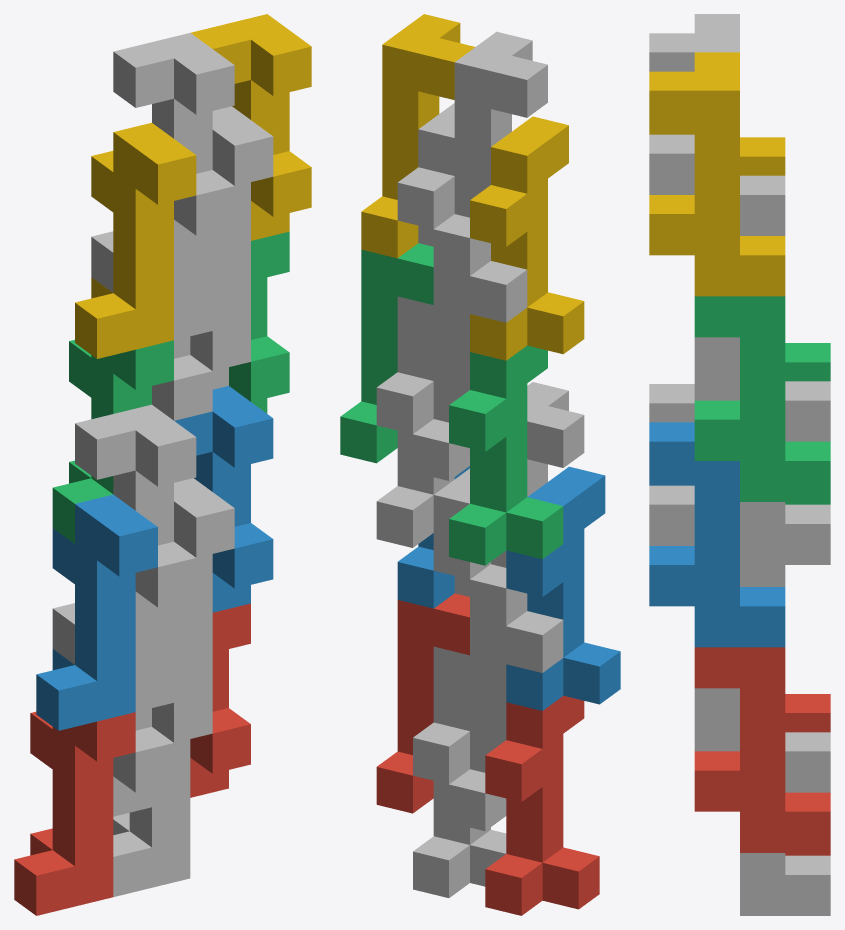
Rendered from tiling.obj.
The picture shows the model from 3 angles, left to right: view 1: azimuth 30°, elevation 25°; view 2: azimuth 150°, elevation 25°; view 3: azimuth 270°, elevation 25°; orthographic projection. The views are drawn at different scales.
Visible parts, largest first — view 1: copy_1_domain_4, copy_1_domain_2, copy_1_domain_1, copy_2_domain_2, copy_2_domain_4, copy_2_domain_8, copy_2_domain_6, copy_1_domain_8, copy_1_domain_6, copy_1_domain_5, copy_1_domain_3, copy_2_domain_1 (+4 smaller); view 2: copy_1_domain_1, copy_1_domain_3, copy_1_domain_4, copy_1_domain_2, copy_2_domain_4, copy_2_domain_8, copy_2_domain_3, copy_2_domain_1, copy_1_domain_7, copy_1_domain_5, copy_2_domain_5, copy_2_domain_7 (+4 smaller); view 3: copy_2_domain_8, copy_2_domain_5, copy_2_domain_7, copy_2_domain_6, copy_1_domain_7, copy_1_domain_5, copy_1_domain_8, copy_1_domain_6, copy_2_domain_4, copy_1_domain_1, copy_1_domain_3, copy_1_domain_4 (+1 smaller).
Boxes of the visible parts, x1,y1,x2,y2 form: copy_1_domain_4: (75, 122, 196, 358); copy_1_domain_2: (36, 494, 157, 730); copy_1_domain_1: (14, 711, 135, 915); copy_2_domain_2: (75, 404, 196, 631); copy_2_domain_4: (113, 33, 234, 259); copy_2_domain_8: (190, 14, 311, 240); copy_2_domain_6: (174, 386, 273, 612); copy_1_domain_8: (174, 106, 273, 340); copy_1_domain_6: (135, 478, 234, 711); copy_1_domain_5: (113, 693, 212, 896); copy_1_domain_3: (52, 340, 173, 543); copy_2_domain_1: (52, 603, 173, 816); copy_1_domain_1: (485, 695, 599, 915); copy_1_domain_3: (449, 345, 563, 565); copy_1_domain_4: (470, 116, 584, 360); copy_1_domain_2: (506, 466, 620, 710); copy_2_domain_4: (433, 31, 547, 275); copy_2_domain_8: (361, 14, 474, 258); copy_2_domain_3: (413, 261, 527, 480); copy_2_domain_1: (449, 611, 563, 831); copy_1_domain_7: (376, 334, 469, 547); copy_1_domain_5: (413, 684, 506, 897); copy_2_domain_5: (376, 593, 469, 813); copy_2_domain_7: (340, 243, 433, 463); copy_2_domain_8: (649, 52, 785, 296); copy_2_domain_5: (694, 647, 830, 852); copy_2_domain_7: (694, 296, 830, 501); copy_2_domain_6: (649, 422, 785, 647); copy_1_domain_7: (694, 359, 830, 564); copy_1_domain_5: (694, 710, 830, 915); copy_1_domain_8: (649, 134, 785, 359); copy_1_domain_6: (649, 485, 785, 710); copy_2_domain_4: (649, 14, 739, 71); copy_1_domain_1: (785, 694, 830, 855); copy_1_domain_3: (785, 343, 830, 504); copy_1_domain_4: (649, 132, 785, 175).
Bounding box in the file's own units: 6 × 21 × 4.
